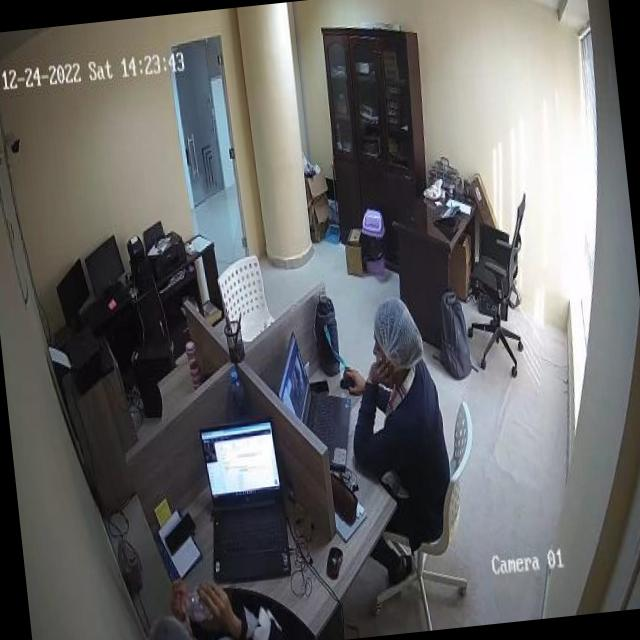hairnet: (372, 289, 422, 366)
